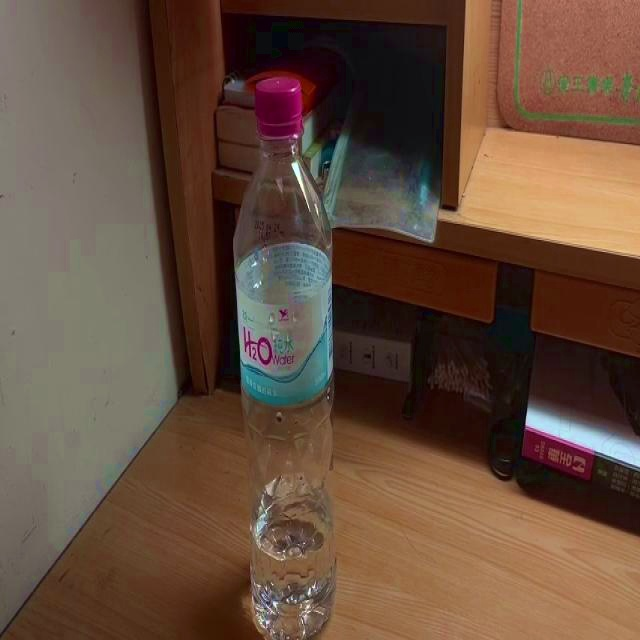Water: (236, 76, 335, 640)
